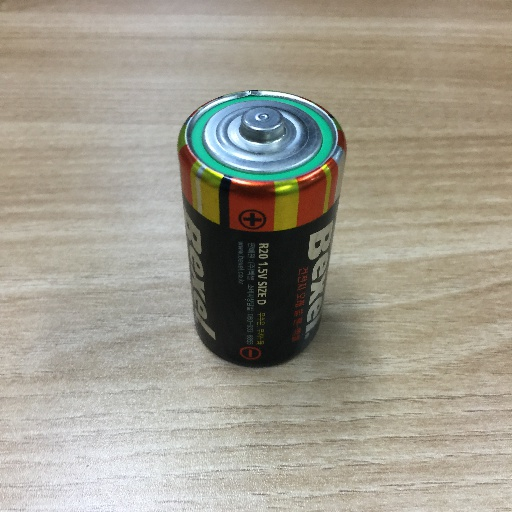Battery_0: (169, 79, 355, 374)
